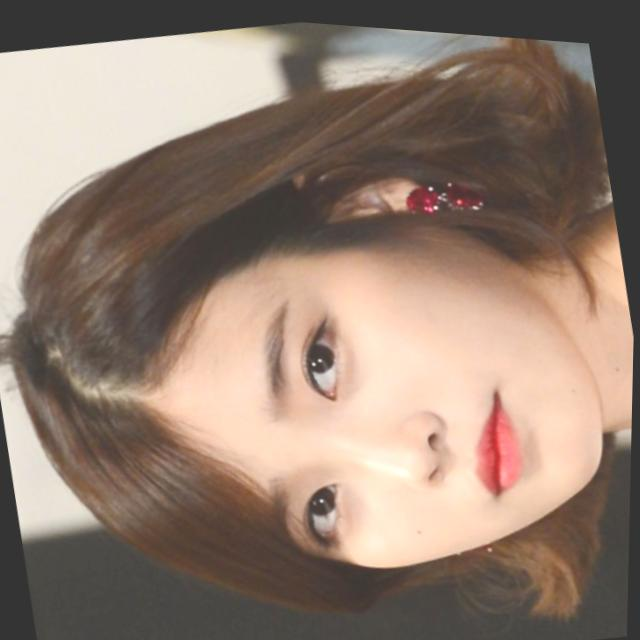face: (0, 97, 638, 640)
